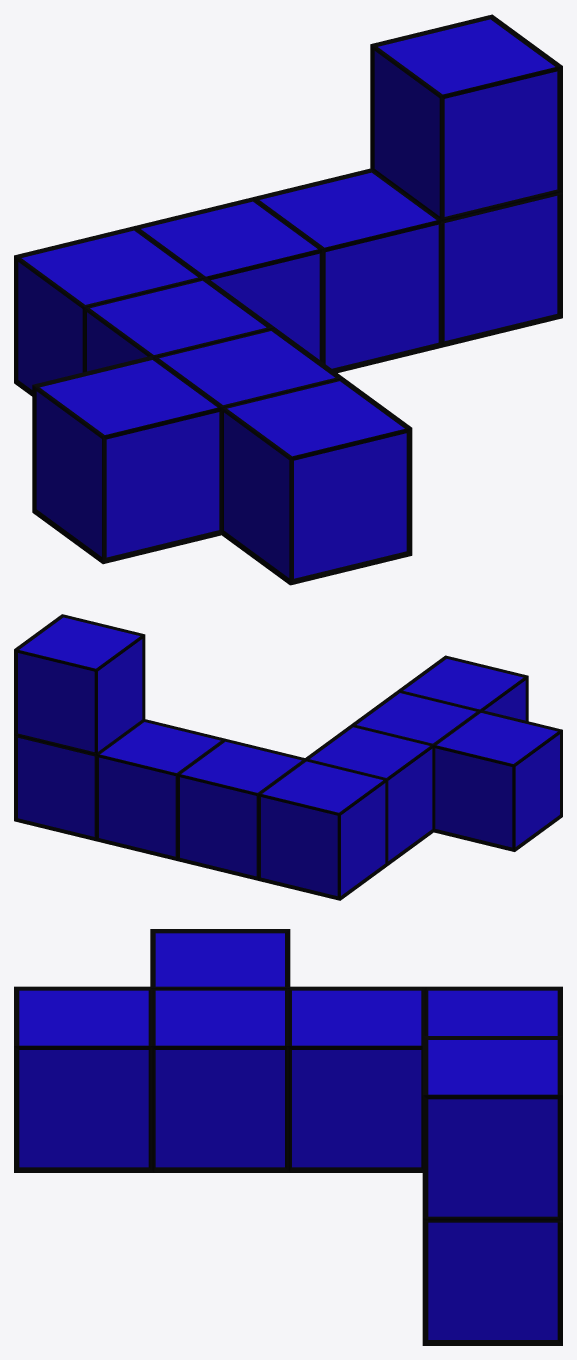
The picture shows the model from 3 angles, top to bottom: view 1: azimuth 30°, elevation 25°; view 2: azimuth 150°, elevation 25°; view 3: azimuth 270°, elevation 25°; orthographic projection. The views are drawn at different scales.
Visible parts, largest first — view 1: b1:Mesh; view 2: b1:Mesh; view 3: b1:Mesh.
Boxes of the visible parts, bbox=[...] form: b1:Mesh: bbox=[14, 14, 562, 585]; b1:Mesh: bbox=[14, 614, 562, 900]; b1:Mesh: bbox=[14, 929, 562, 1345].
Size of the model in its own units: 10.06 by 4.06 by 8.06.
